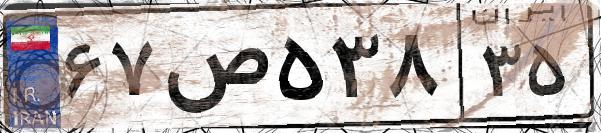3: (330, 28, 385, 110), (475, 38, 525, 113)
5: (270, 28, 330, 110), (525, 38, 570, 115)
6: (57, 26, 110, 100)
7: (110, 28, 158, 98)
8: (385, 28, 445, 110)
ص: (158, 20, 270, 120)
